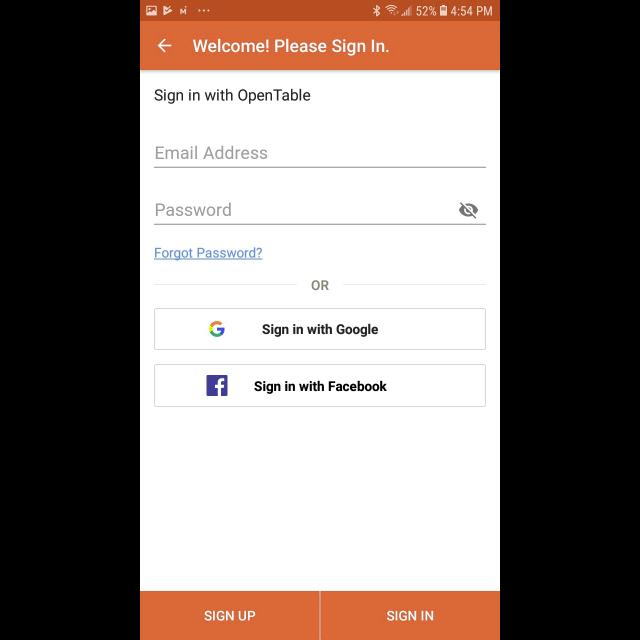icon: (458, 202, 478, 220), (158, 38, 172, 54)
input: (154, 202, 486, 225), (154, 146, 486, 168)
text: (193, 40, 389, 56), (155, 88, 311, 104), (156, 146, 268, 160), (155, 247, 263, 261), (156, 203, 232, 217), (311, 280, 329, 292)
textbutton: (154, 364, 486, 408), (154, 308, 486, 350), (140, 591, 319, 640), (320, 591, 499, 640)
uppertaskbar: (140, 1, 500, 22)
